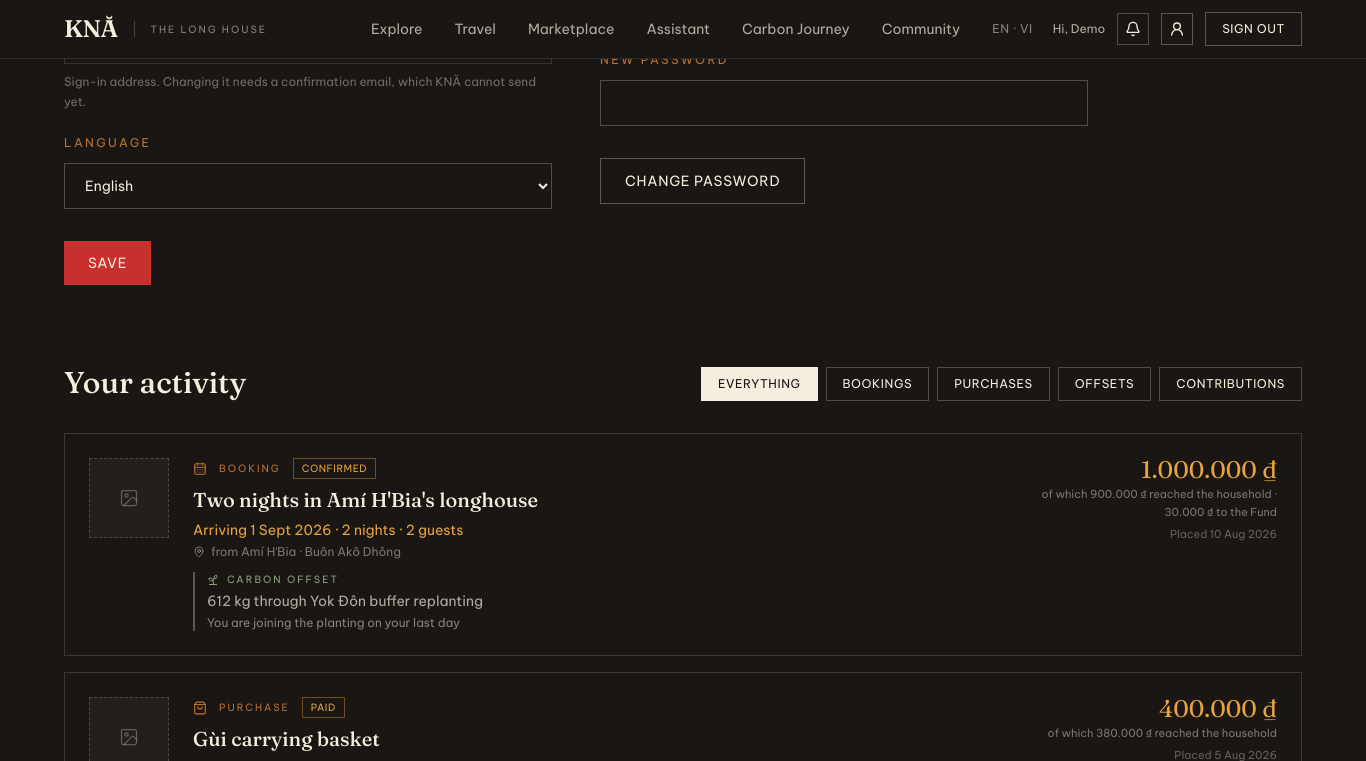
Test: Account › filters the timeline down to bookings carrying an offset
The image size is (1366, 761).
(page scrolled)
Expected: the heading "Two nights in Amí H'Bia's longhouse" is shown, [193, 487, 538, 512]
Click the button "Offsets": (1104, 384) [1058, 367, 1151, 401]
(page scrolled)
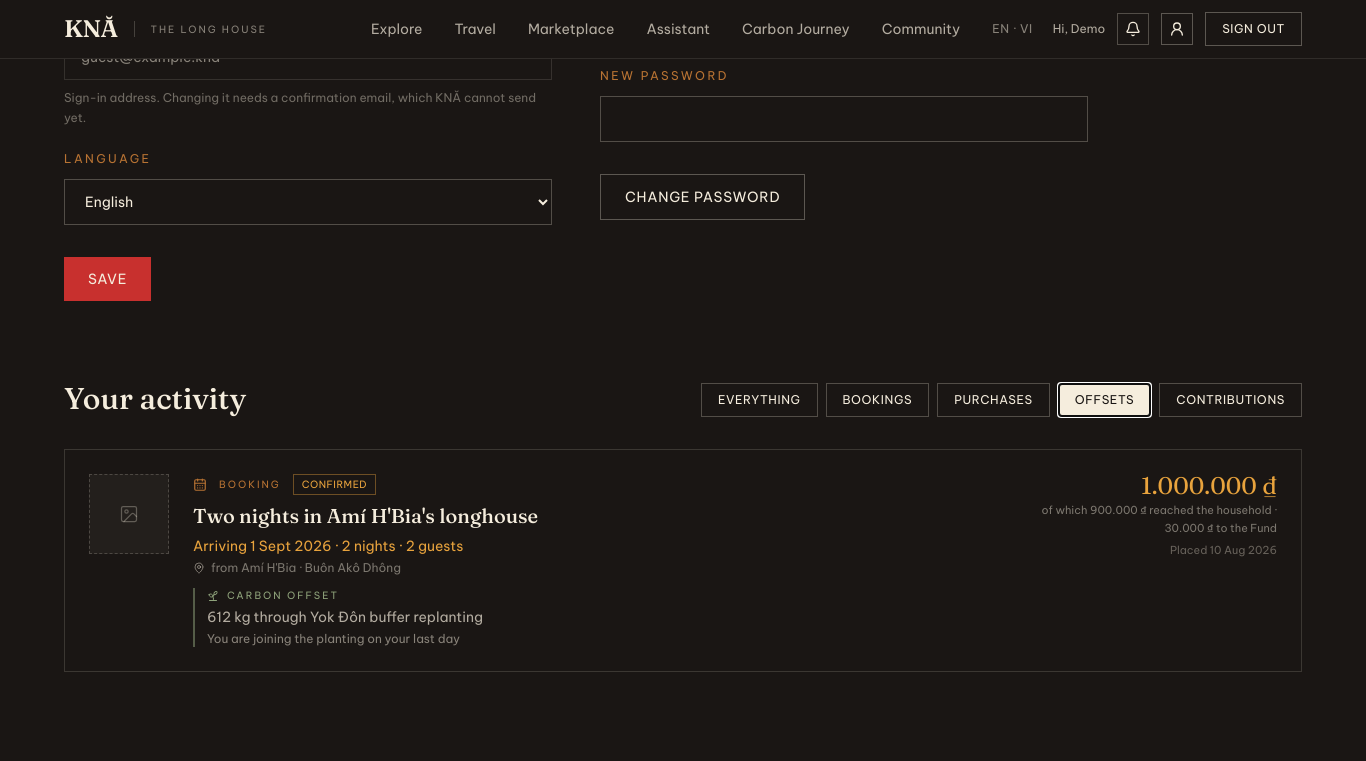
Expected: the heading "Two nights in Amí H'Bia's longhouse" is shown, [193, 503, 538, 528]
Now the heading "Gùi carrying basket" is gone
